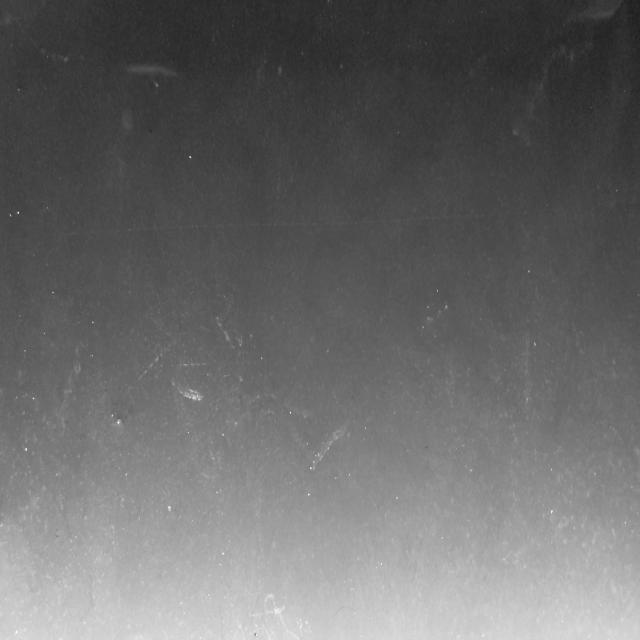beta: (515, 31, 592, 150), (0, 1, 74, 65), (56, 332, 88, 436), (135, 332, 179, 386), (263, 591, 303, 640)
